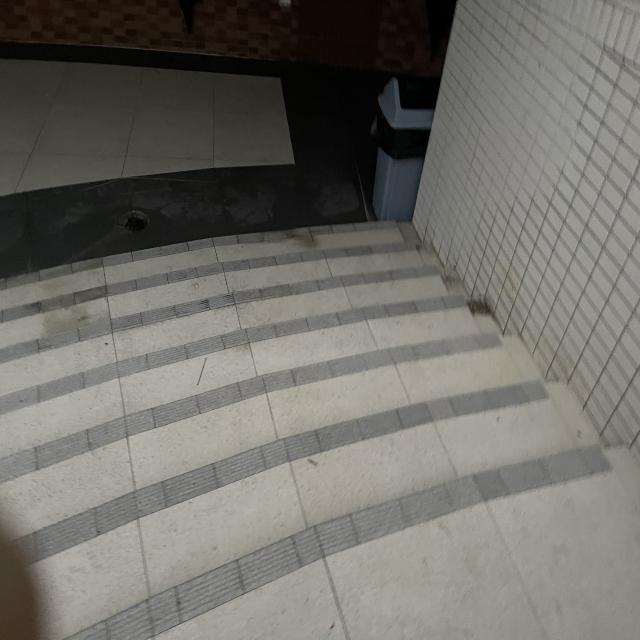Stairs: (0, 218, 640, 640)
